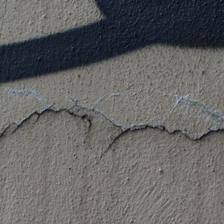Crack: (0, 94, 111, 224), (70, 100, 111, 138)
